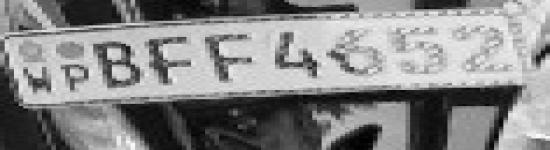2: (448, 22, 518, 76)
4: (264, 29, 324, 78)
5: (389, 24, 451, 76)
6: (325, 26, 390, 80)
B: (92, 39, 146, 89)
F: (200, 30, 260, 85), (146, 34, 198, 88)
P: (57, 63, 92, 92)
W: (18, 65, 56, 96)
